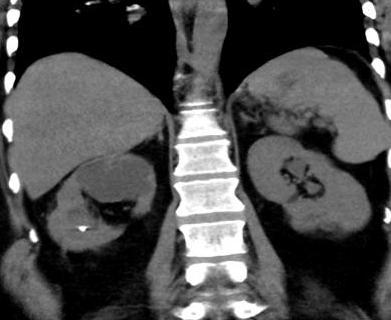Tas_Var: (74, 219, 90, 237)
